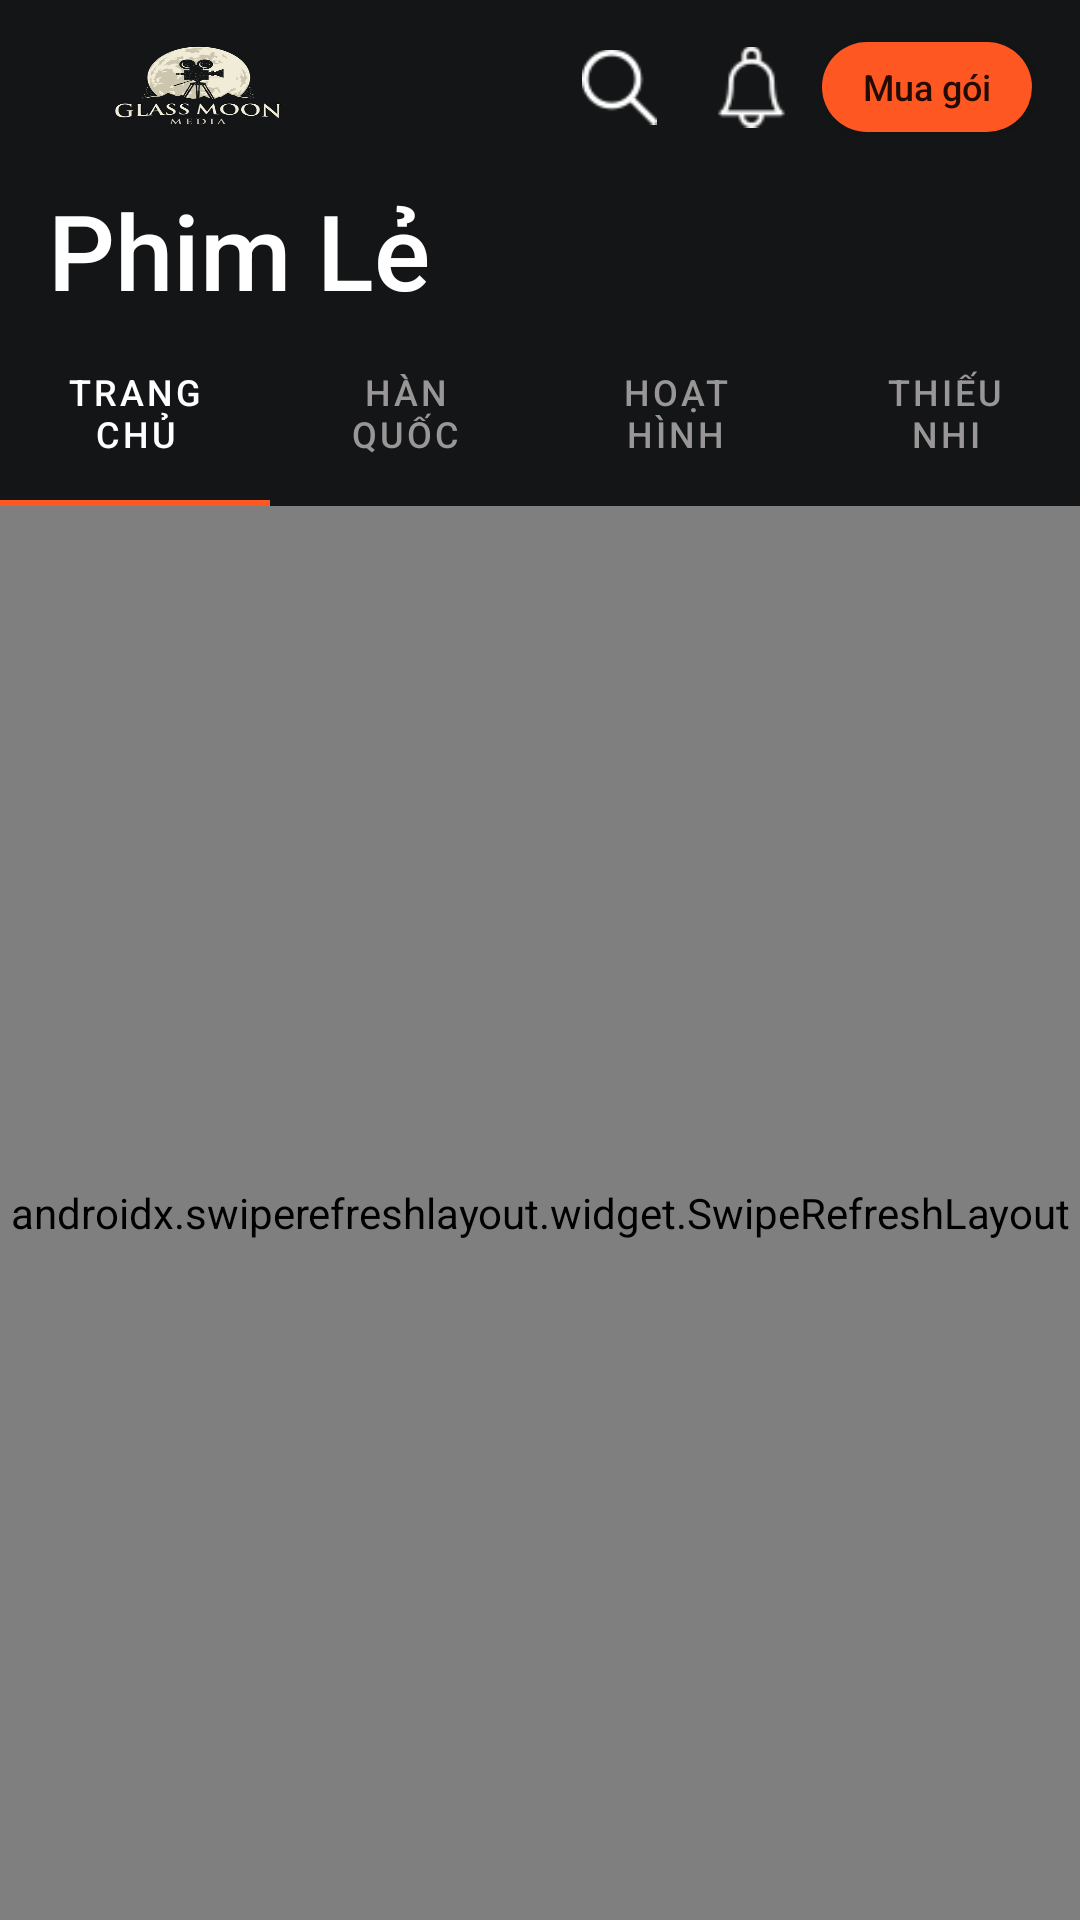

Screen size 1080px x 1920px. Icon name, then its box in pixels as (x1, y1, x2, y2):
notification: (718, 47, 785, 128)
search: (582, 50, 657, 125)
